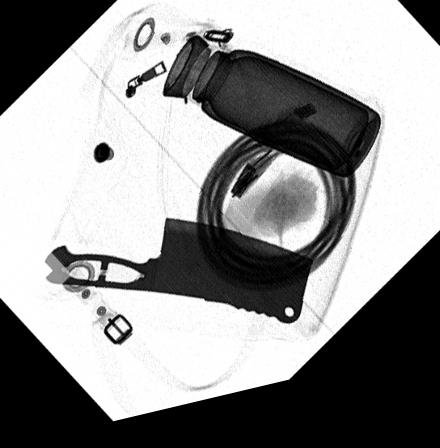Knife: (42, 225, 314, 338)
